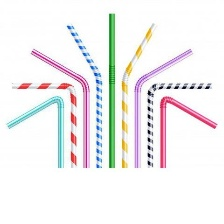drinking_straw: (156, 93, 221, 171), (5, 93, 67, 170), (106, 10, 119, 170)
